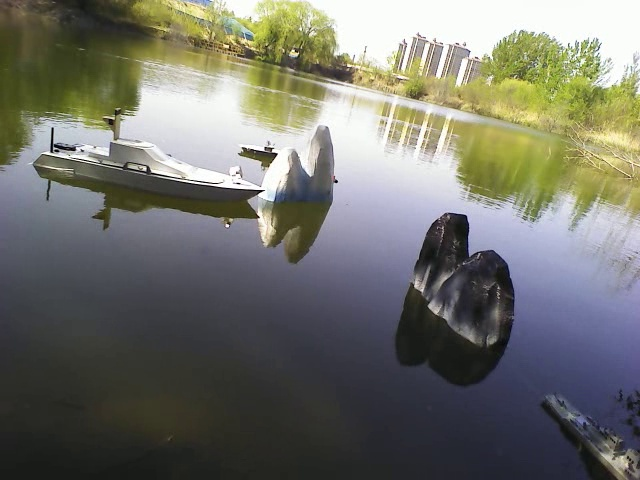boat: (29, 136, 266, 212)
iceberg: (263, 125, 339, 208)
rock: (409, 209, 519, 350)
warship: (542, 389, 636, 479)
